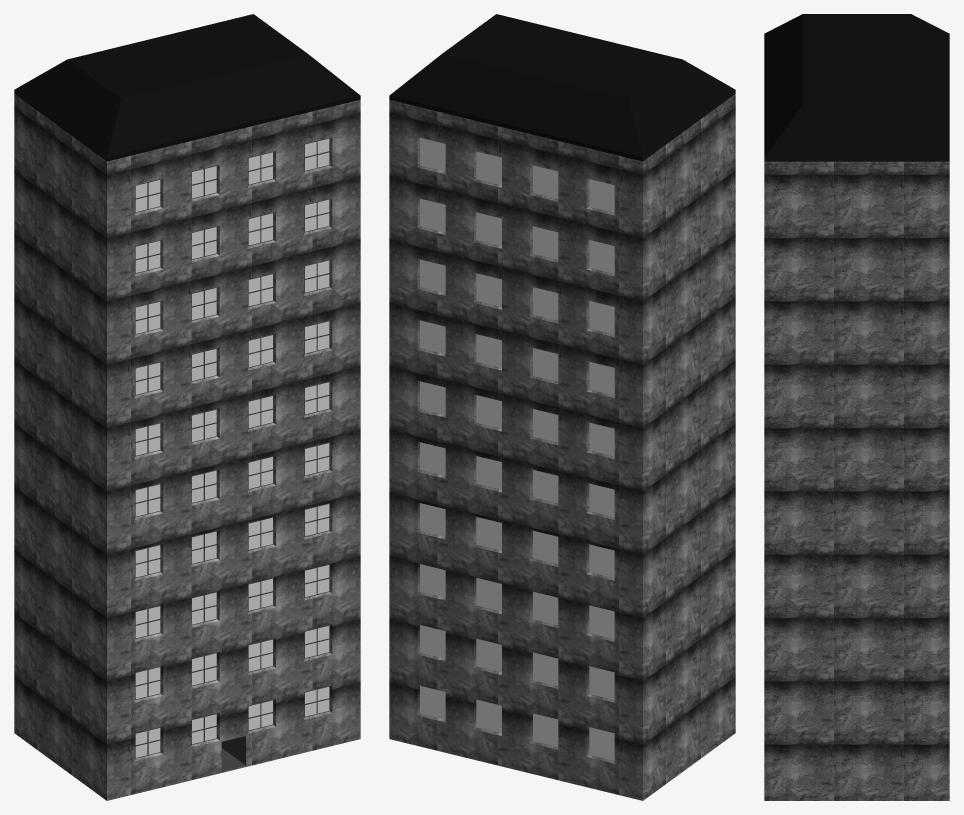
Rendered from APARTMENT_03.fbx.
3 views of the same model, side by side, from view 1: azimuth 30°, elevation 25°; view 2: azimuth 150°, elevation 25°; view 3: azimuth 270°, elevation 25° (orthographic).
Parts seen in each view (by area): view 1: APARTMENT_03; view 2: APARTMENT_03; view 3: APARTMENT_03.
Part boxes in pixels (box(x1,y1,x2,y2)): APARTMENT_03: box(14, 14, 360, 800); APARTMENT_03: box(389, 14, 735, 800); APARTMENT_03: box(764, 14, 949, 800).
Bounding box in the file's own units: 1718 × 4398 × 1086.
